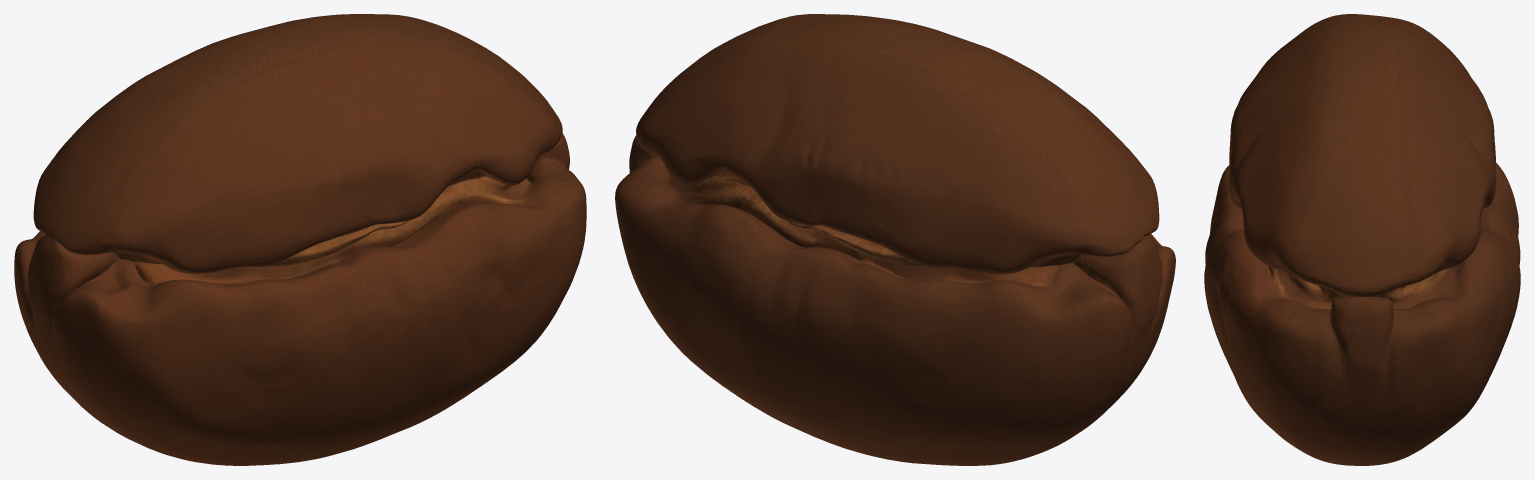
Rendered from grano.glb.
The picture shows the model from 3 angles, left to right: view 1: azimuth 30°, elevation 25°; view 2: azimuth 150°, elevation 25°; view 3: azimuth 270°, elevation 25°; orthographic projection. The views are drawn at different scales.
Size of the model in its own units: 1.9 by 1.45 by 1.09.
Materials: 1 (1 with a texture image).
